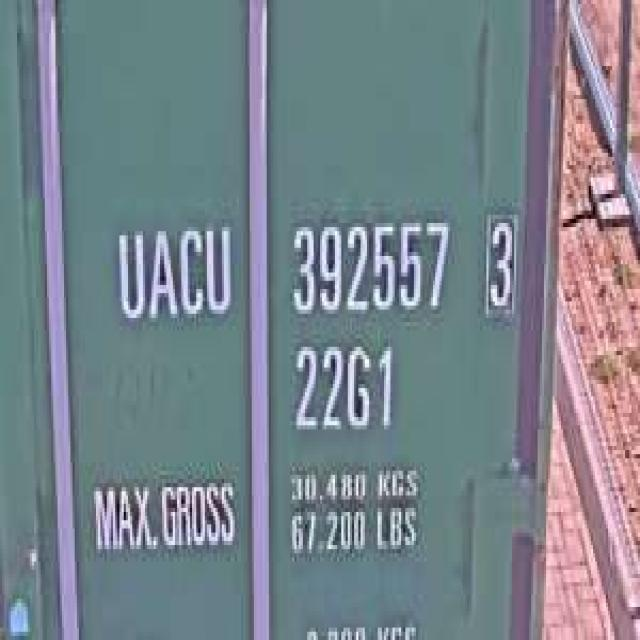dv: (478, 198, 520, 318)
owner: (109, 211, 237, 330)
serial: (284, 202, 454, 322)
size: (286, 334, 399, 442)
